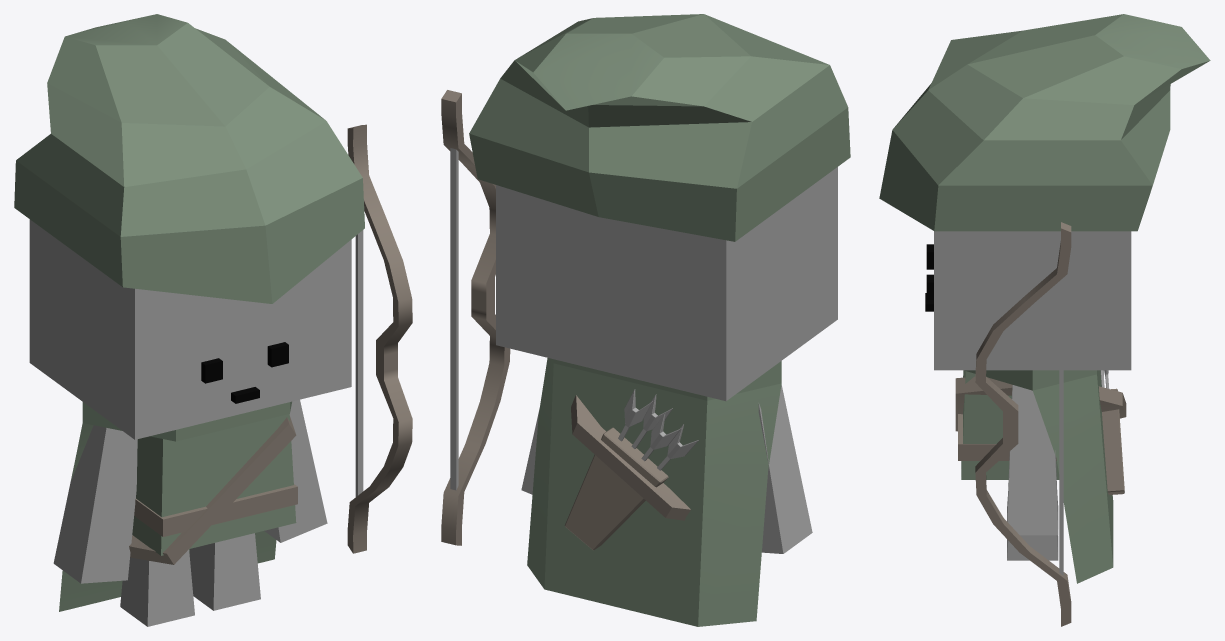
File: HunterARCharacter.fbx
The picture shows the model from 3 angles, left to right: view 1: azimuth 30°, elevation 25°; view 2: azimuth 150°, elevation 25°; view 3: azimuth 270°, elevation 25°; orthographic projection. The views are drawn at different scales.
Visible parts, largest first — view 1: HunterHat, Head, Shirt, Left_Arm, Bow_Bow1, Cape, Right_Leg, Left_Leg, Strap, Right_Arm, Belt, Bow_String; view 2: HunterHat, Head, Cape, Bow_Bow1, Arrow_holder, Left_Arm, Strap, Bow_String, Arrow_2, Arrow_3; view 3: HunterHat, Head, Cape, Bow_Bow1, Right_Arm, Shirt, Arrow_holder, Bow_String, Strap, Right_Leg, Belt.
Boxes of the visible parts, box(x1,y1,x2,y2) form: HunterHat: box(14, 14, 364, 303); Head: box(29, 219, 351, 439); Shirt: box(132, 414, 296, 555); Left_Arm: box(53, 425, 137, 583); Bow_Bow1: box(347, 124, 412, 553); Cape: box(59, 401, 291, 611); Right_Leg: box(189, 533, 260, 610); Left_Leg: box(120, 549, 194, 626); Strap: box(129, 417, 296, 564); Right_Arm: box(264, 399, 327, 542); Belt: box(134, 484, 297, 536); Bow_String: box(355, 230, 363, 496); HunterHat: box(469, 14, 850, 241); Head: box(496, 167, 837, 401); Cape: box(527, 358, 781, 626); Bow_Bow1: box(441, 90, 510, 545); Arrow_holder: box(564, 427, 668, 550); Left_Arm: box(758, 385, 812, 553); Strap: box(571, 395, 690, 520); Bow_String: box(450, 148, 458, 490); Arrow_2: box(618, 389, 652, 441); Arrow_3: box(641, 414, 681, 461); HunterHat: box(879, 14, 1210, 231); Head: box(934, 231, 1131, 370); Cape: box(964, 370, 1113, 583); Bow_Bow1: box(975, 222, 1071, 626); Right_Arm: box(1007, 385, 1058, 535); Shirt: box(961, 370, 1059, 479); Arrow_holder: box(1102, 388, 1124, 494); Bow_String: box(1059, 278, 1063, 575); Strap: box(955, 376, 1126, 431); Right_Leg: box(1007, 535, 1058, 560); Belt: box(958, 414, 1056, 460).
Size of the model in its own units: 1.94 by 3.17 by 1.89.
